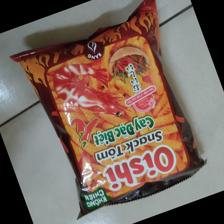Oishi_Cay: (6, 1, 207, 223)
